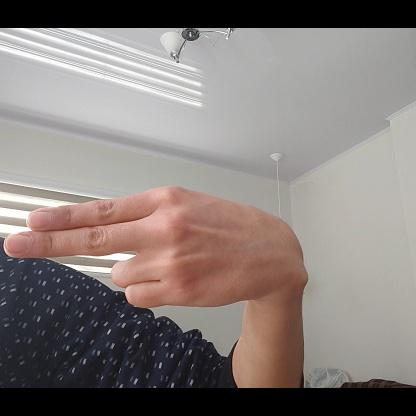H: (5, 186, 310, 307)
